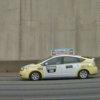Car: (9, 44, 100, 82)
